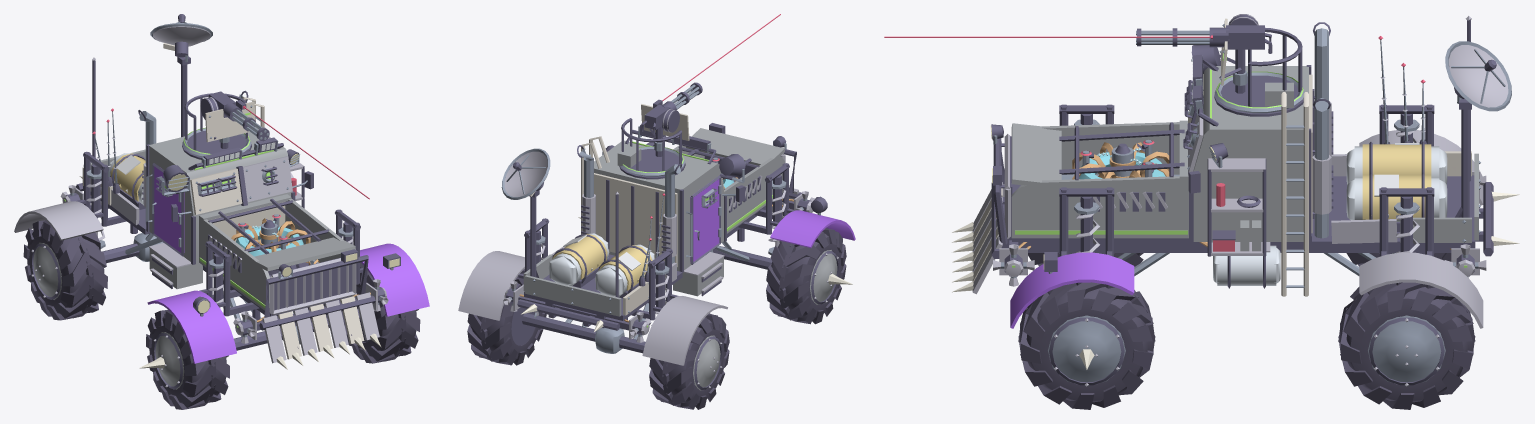
File: warrig_a.glb
The picture shows the model from 3 angles, left to right: view 1: azimuth 30°, elevation 25°; view 2: azimuth 150°, elevation 25°; view 3: azimuth 270°, elevation 25°; orthographic projection. The views are drawn at different scales.
Parts seen in each view (by area): view 1: wa_wa_chassis_body_30, wa_wa_chassis_metal_20, wa_w2_wa_wheel2_tire_50, wa_wa_chassis_bleach_20, wa_wa_chassis_dark_15, wa_w0_wa_wheel0_tire_50, wa_wa_chassis_dark_20, wa_wa_chassis_primer_70, wa_wa_chassis_primer_50, wa_w1_wa_wheel1_tire_50, wa_wa_chassis_dark_8, wa_wa_chassis_dark_0 (+29 smaller); view 2: wa_wa_chassis_metal_30, wa_w0_wa_wheel0_tire_50, wa_wa_chassis_bleach_20, wa_wa_chassis_dark_15, wa_w2_wa_wheel2_tire_50, wa_wa_chassis_dark_20, wa_wa_chassis_primer_70, wa_wa_chassis_primer_20, wa_w3_wa_wheel3_tire_50, wa_wa_chassis_dark_30, wa_wa_chassis_body_30, wa_wa_chassis_mli_12 (+32 smaller); view 3: wa_wa_chassis_primer_70, wa_wa_chassis_primer_50, wa_w1_wa_wheel1_tire_50, wa_w3_wa_wheel3_tire_50, wa_wa_chassis_dark_15, wa_wa_chassis_metal_20, wa_wa_chassis_dark_20, wa_wa_chassis_metal_30, wa_wa_chassis_metal_12, wa_wa_chassis_body_30, wa_w3_wa_wheel3_steel_20, wa_wa_chassis_mli_12 (+33 smaller).
Part boxes in pixels (x1,y1,x2,y2): wa_wa_chassis_body_30: (147, 243, 429, 363); wa_wa_chassis_metal_20: (111, 26, 379, 363); wa_w2_wa_wheel2_tire_50: (23, 220, 107, 320); wa_wa_chassis_bleach_20: (82, 167, 364, 359); wa_wa_chassis_dark_15: (83, 64, 370, 330); wa_w0_wa_wheel0_tire_50: (146, 310, 229, 409); wa_wa_chassis_dark_20: (66, 144, 385, 335); wa_wa_chassis_primer_70: (149, 127, 292, 263); wa_wa_chassis_primer_50: (199, 198, 343, 311); wa_w1_wa_wheel1_tire_50: (344, 262, 420, 363); wa_wa_chassis_dark_8: (77, 14, 363, 307); wa_wa_chassis_dark_0: (138, 90, 352, 310); wa_wa_chassis_metal_30: (458, 251, 727, 365); wa_w0_wa_wheel0_tire_50: (766, 228, 846, 324); wa_wa_chassis_bleach_20: (594, 173, 789, 315); wa_wa_chassis_dark_15: (518, 123, 793, 330); wa_w2_wa_wheel2_tire_50: (649, 313, 729, 409); wa_wa_chassis_dark_20: (506, 136, 811, 335); wa_wa_chassis_primer_70: (594, 140, 724, 271); wa_wa_chassis_primer_20: (523, 254, 723, 316); wa_w3_wa_wheel3_tire_50: (467, 269, 546, 365); wa_wa_chassis_dark_30: (522, 180, 772, 353); wa_wa_chassis_body_30: (770, 210, 855, 247); wa_wa_chassis_mli_12: (552, 233, 652, 290); wa_wa_chassis_primer_70: (1193, 66, 1308, 241); wa_wa_chassis_primer_50: (1011, 122, 1188, 238); wa_w1_wa_wheel1_tire_50: (1018, 282, 1155, 409); wa_w3_wa_wheel3_tire_50: (1338, 282, 1475, 409); wa_wa_chassis_dark_15: (993, 54, 1469, 256); wa_wa_chassis_metal_20: (972, 45, 1508, 294); wa_wa_chassis_dark_20: (991, 45, 1493, 276); wa_wa_chassis_metal_30: (1359, 130, 1483, 328); wa_wa_chassis_metal_12: (999, 123, 1479, 275); wa_wa_chassis_body_30: (1010, 252, 1134, 328); wa_w3_wa_wheel3_steel_20: (1368, 315, 1445, 385); wa_wa_chassis_mli_12: (1362, 144, 1431, 219).
Size of the model in its own units: 6.68 by 5.41 by 9.74.
